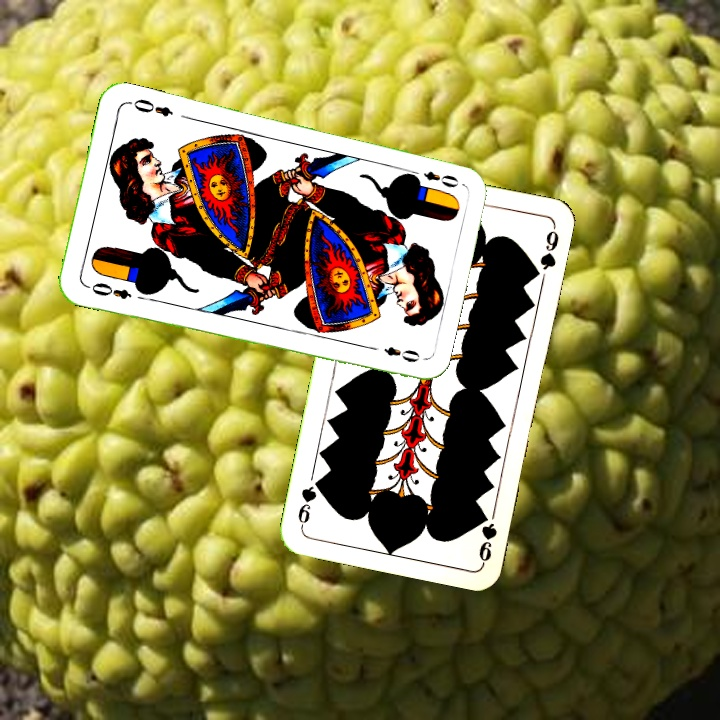EO: (405, 166, 462, 190), (81, 278, 134, 302)
G9: (474, 508, 500, 566)
